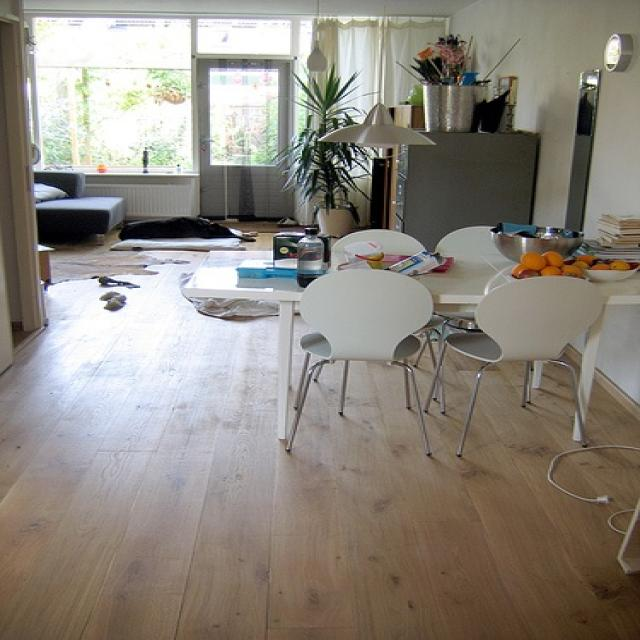chair: (421, 275, 606, 460), (287, 268, 437, 458), (326, 228, 445, 416), (434, 224, 492, 333)
diningtable: (179, 248, 638, 444)
pottedplant: (276, 64, 371, 237)
